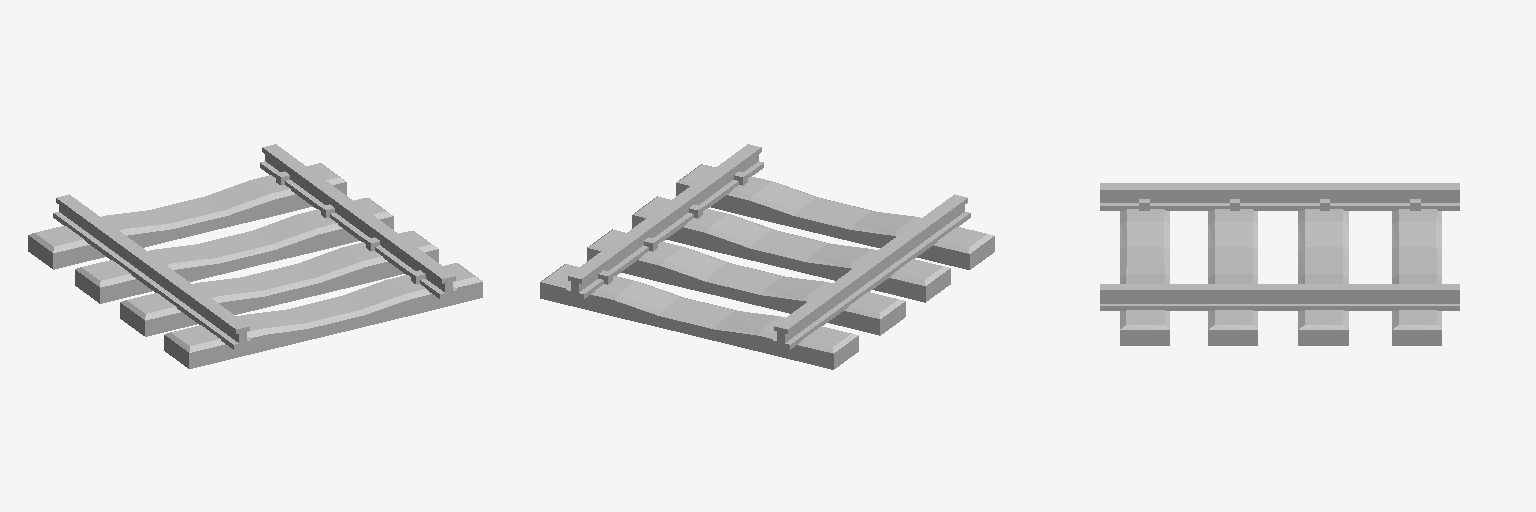
The model's file is track_concrete.obj.
3 views of the same model, side by side, from view 1: azimuth 30°, elevation 25°; view 2: azimuth 150°, elevation 25°; view 3: azimuth 270°, elevation 25° (orthographic).
Parts seen in each view (by area): view 1: track_concrete; view 2: track_concrete; view 3: track_concrete.
Boxes of the visible parts, x1=… form: track_concrete: x1=28, y1=144, x2=482, y2=368; track_concrete: x1=540, y1=144, x2=994, y2=369; track_concrete: x1=1100, y1=183, x2=1459, y2=345.
Size of the model in its own units: 0.94 by 0.1176 by 1.